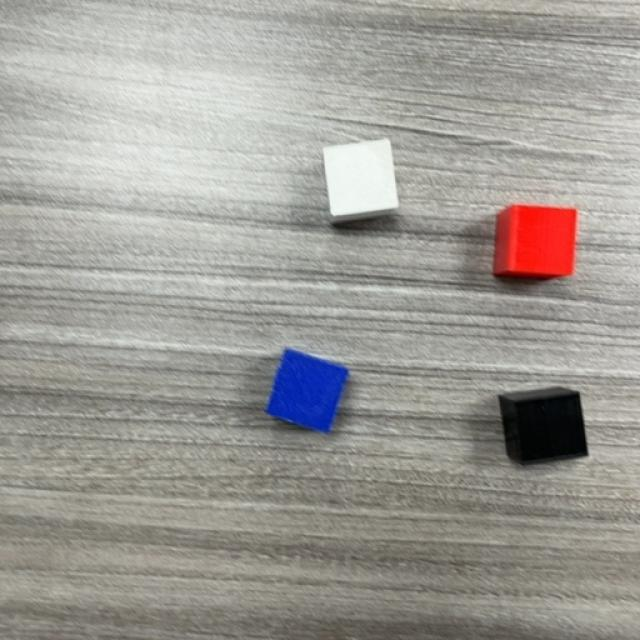Azul: (266, 349, 350, 435)
Blanco: (322, 140, 399, 222)
Negro: (500, 386, 590, 468)
Rojo: (494, 206, 580, 281)
